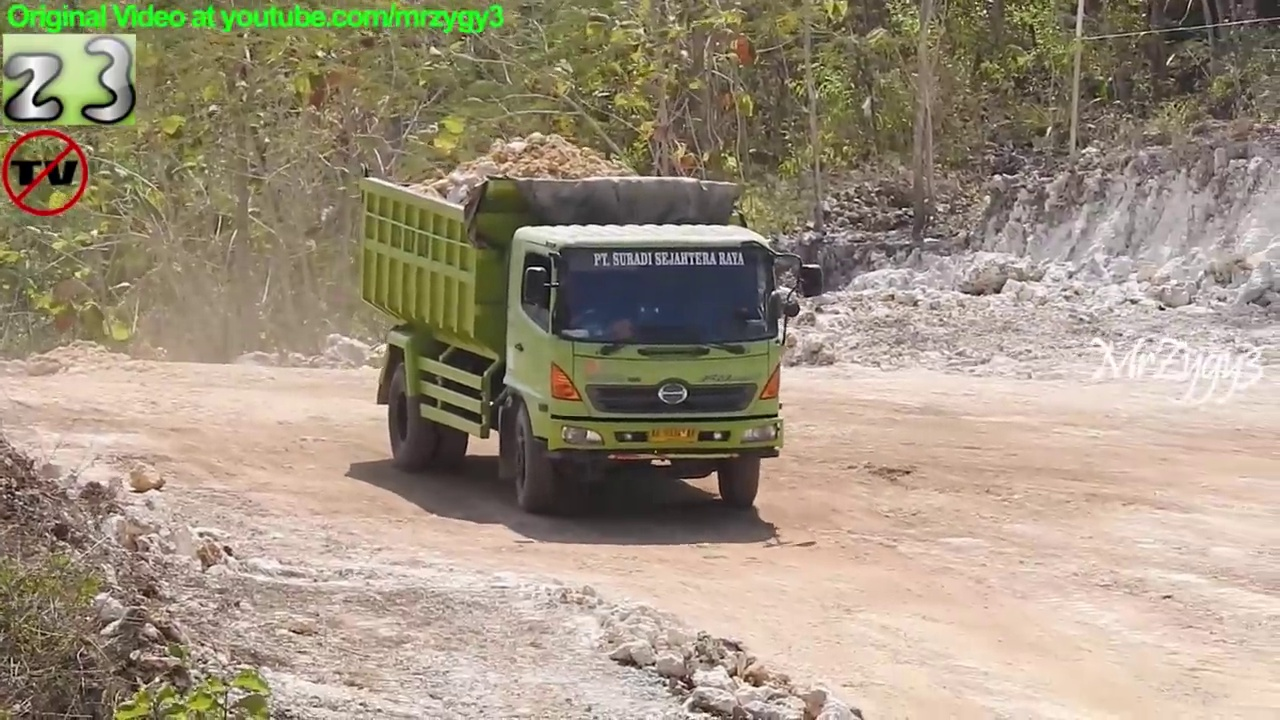truck: (353, 154, 830, 516)
